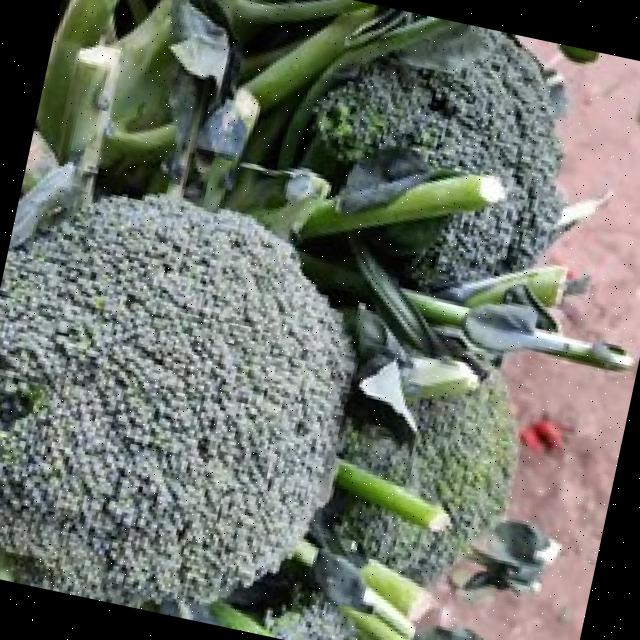Broccoli: (0, 195, 353, 607), (0, 195, 353, 606), (308, 29, 563, 285), (311, 28, 563, 284), (337, 372, 517, 583), (337, 373, 517, 583)
